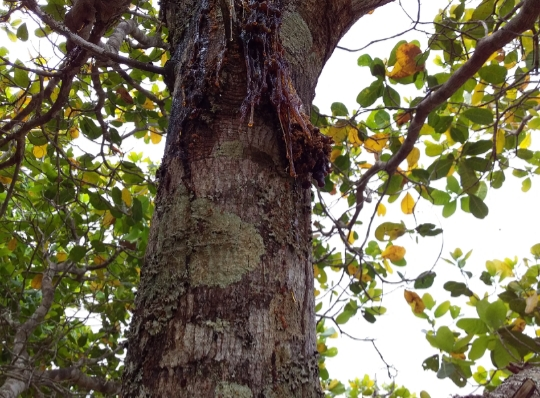Gommose: (184, 2, 331, 208)
